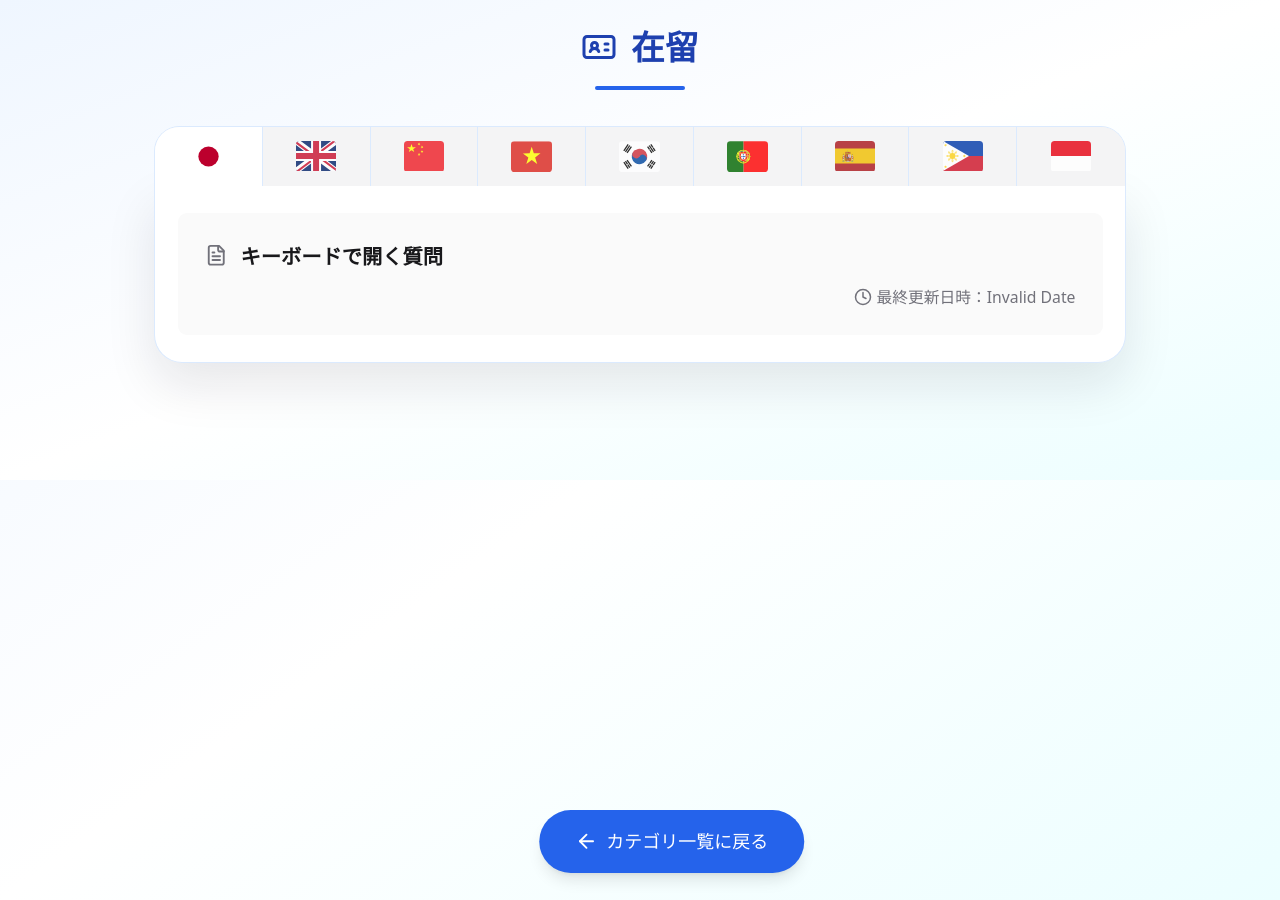
Test: CategoryDetailPage › opens and closes answers with the keyboard and exposes the expanded state
Click the button "カテゴリ一覧に戻る" at (672, 842), box [539, 810, 804, 873]
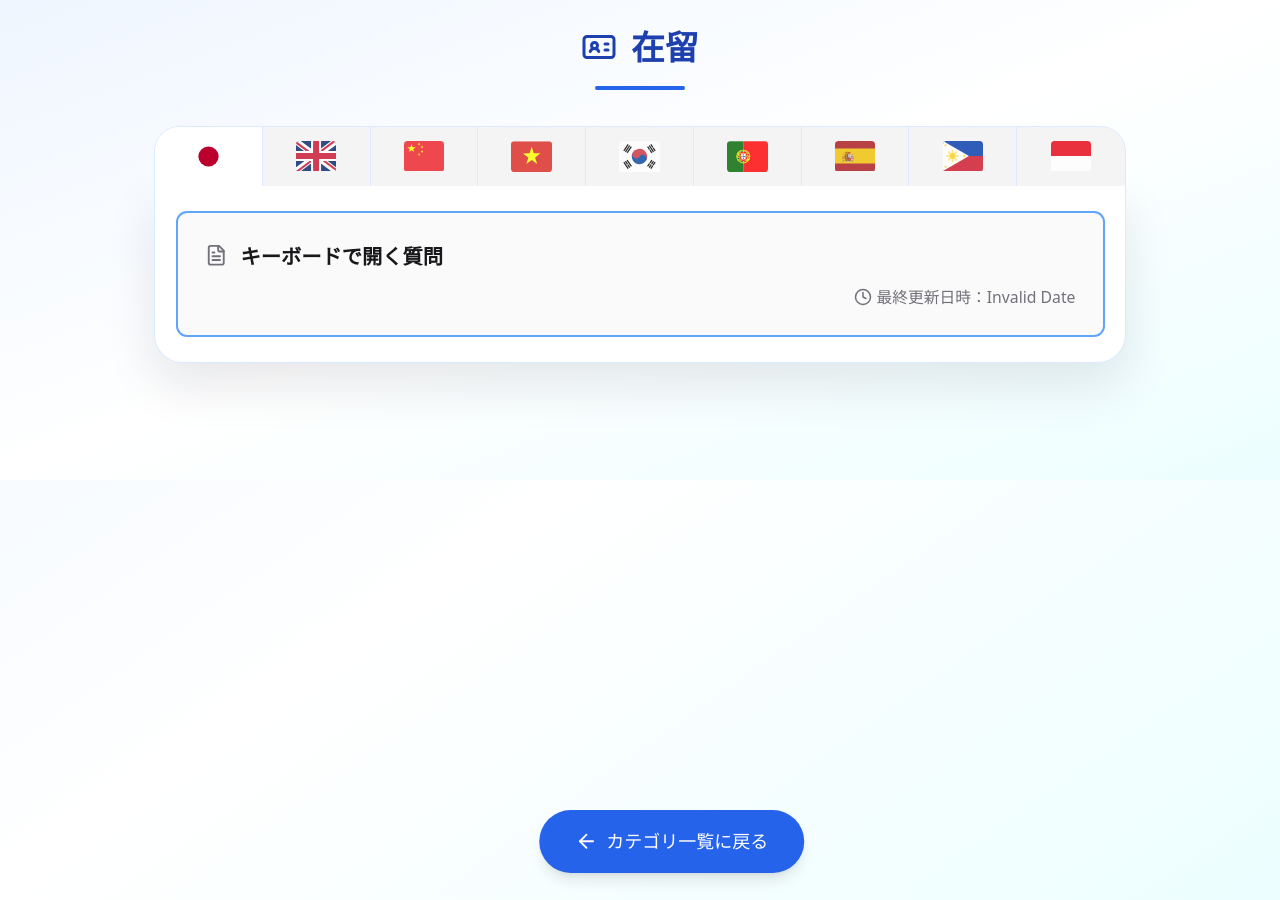
Press Enter
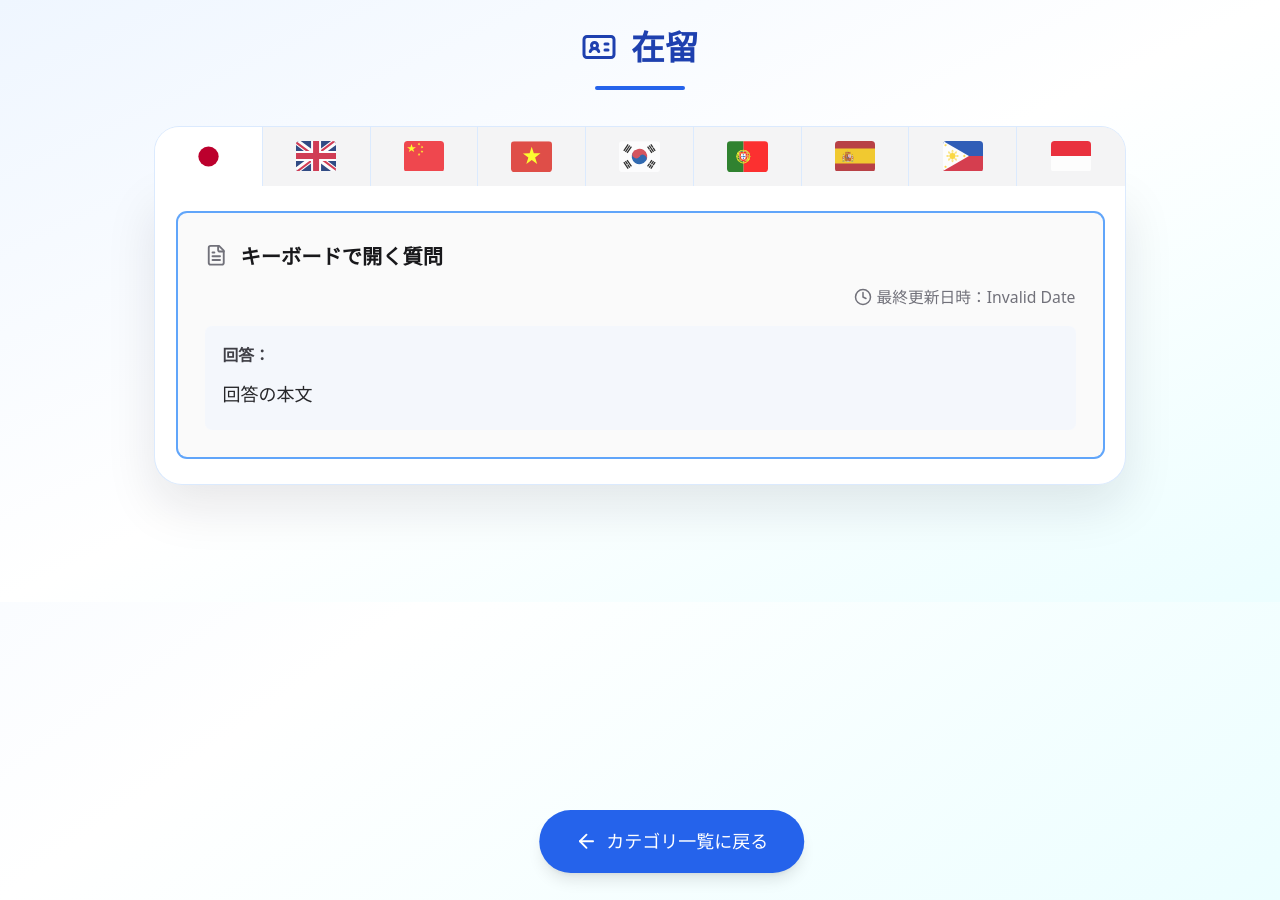
Result: the button "キーボードで開く質問 最終更新日時：Invalid Date 回答： 回答の本文" is expanded at [178, 212, 1102, 457]
Result: the text "回答の本文" is shown at [222, 382, 312, 406]
Type keys " "
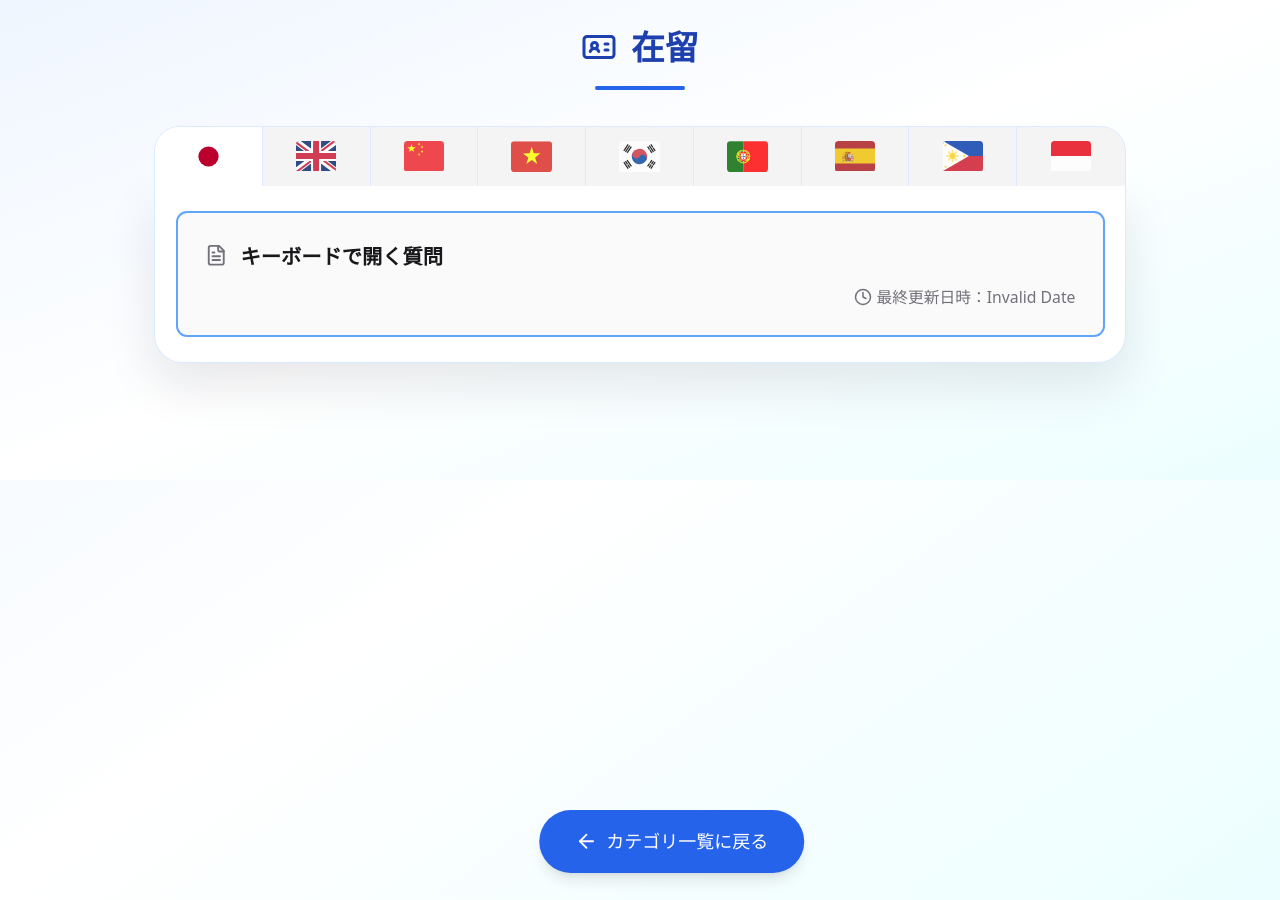
Result: the text "回答の本文" is gone
